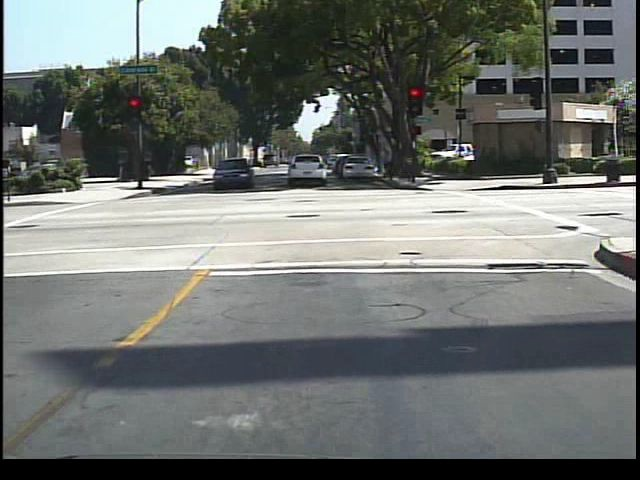person: (380, 143, 400, 185)
